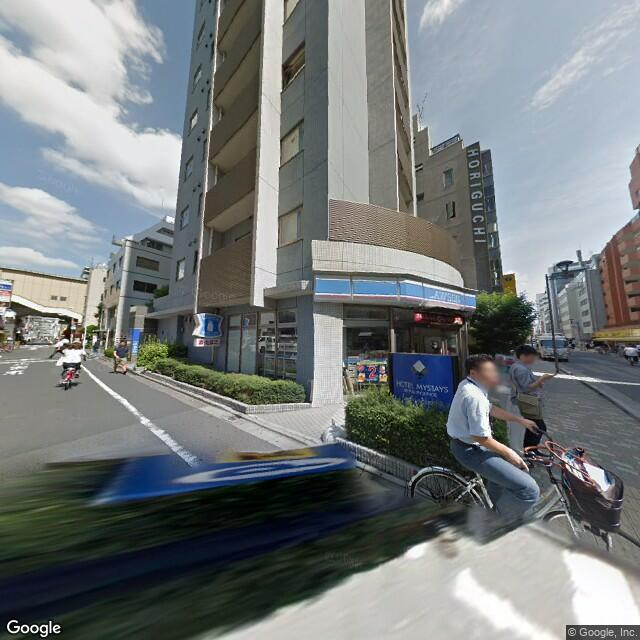lawson: (309, 270, 478, 315), (196, 308, 222, 344)
